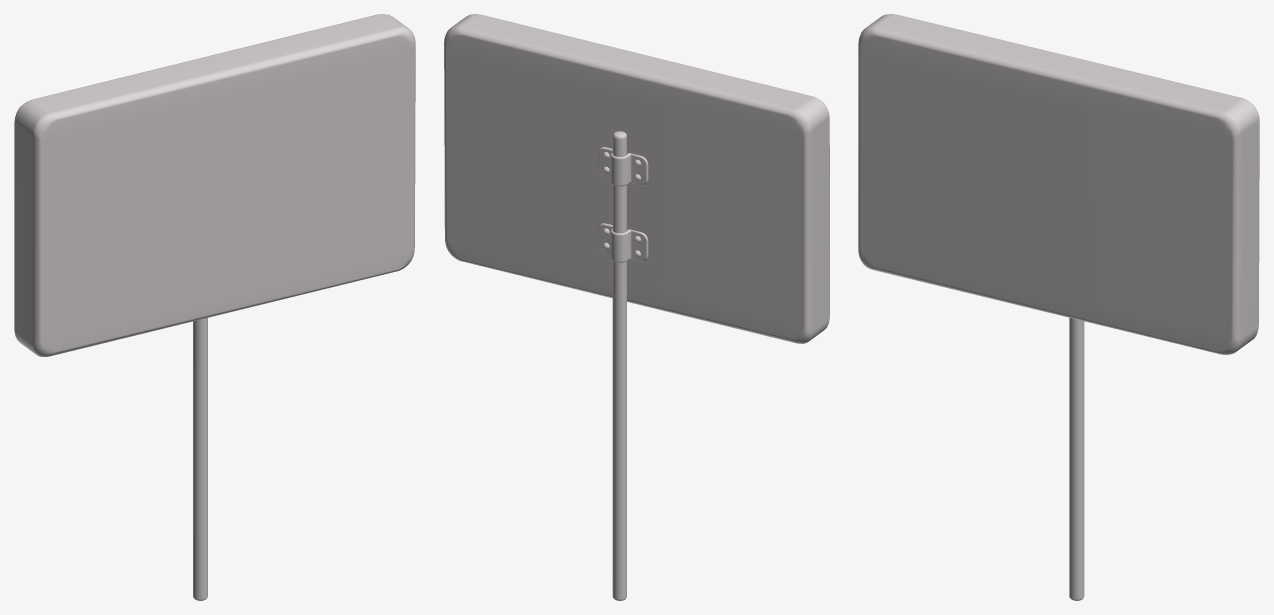
File: ktechSign.glb
The picture shows the model from 3 angles, left to right: view 1: azimuth 30°, elevation 25°; view 2: azimuth 150°, elevation 25°; view 3: azimuth 330°, elevation 25°; orthographic projection. The views are drawn at different scales.
Parts seen in each view (by area): view 1: rectangle.1; view 2: rectangle.1; view 3: rectangle.1.
Part boxes in pixels (x1=…): rectangle.1: x1=14, y1=14, x2=415, y2=600; rectangle.1: x1=444, y1=14, x2=829, y2=600; rectangle.1: x1=858, y1=14, x2=1259, y2=600.
Size of the model in its own units: 0.7705 by 1.05 by 0.1167.
Materials: 1 (1 with a texture image).
